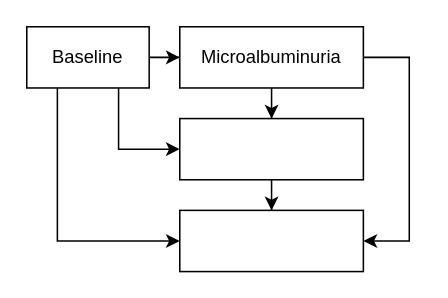
Image size: 448x298. Some labels were removed from this diagram. Each missing label, with the box of its shape:
Death: (178, 209, 363, 272)
Macroalbuminuria: (178, 117, 363, 180)
